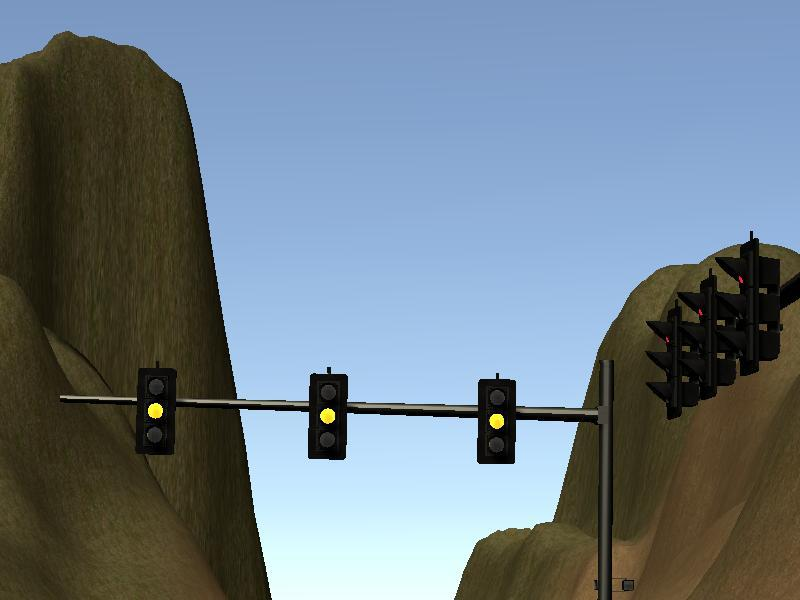Yellow: (135, 369, 175, 454), (308, 375, 347, 458), (479, 380, 515, 463)
